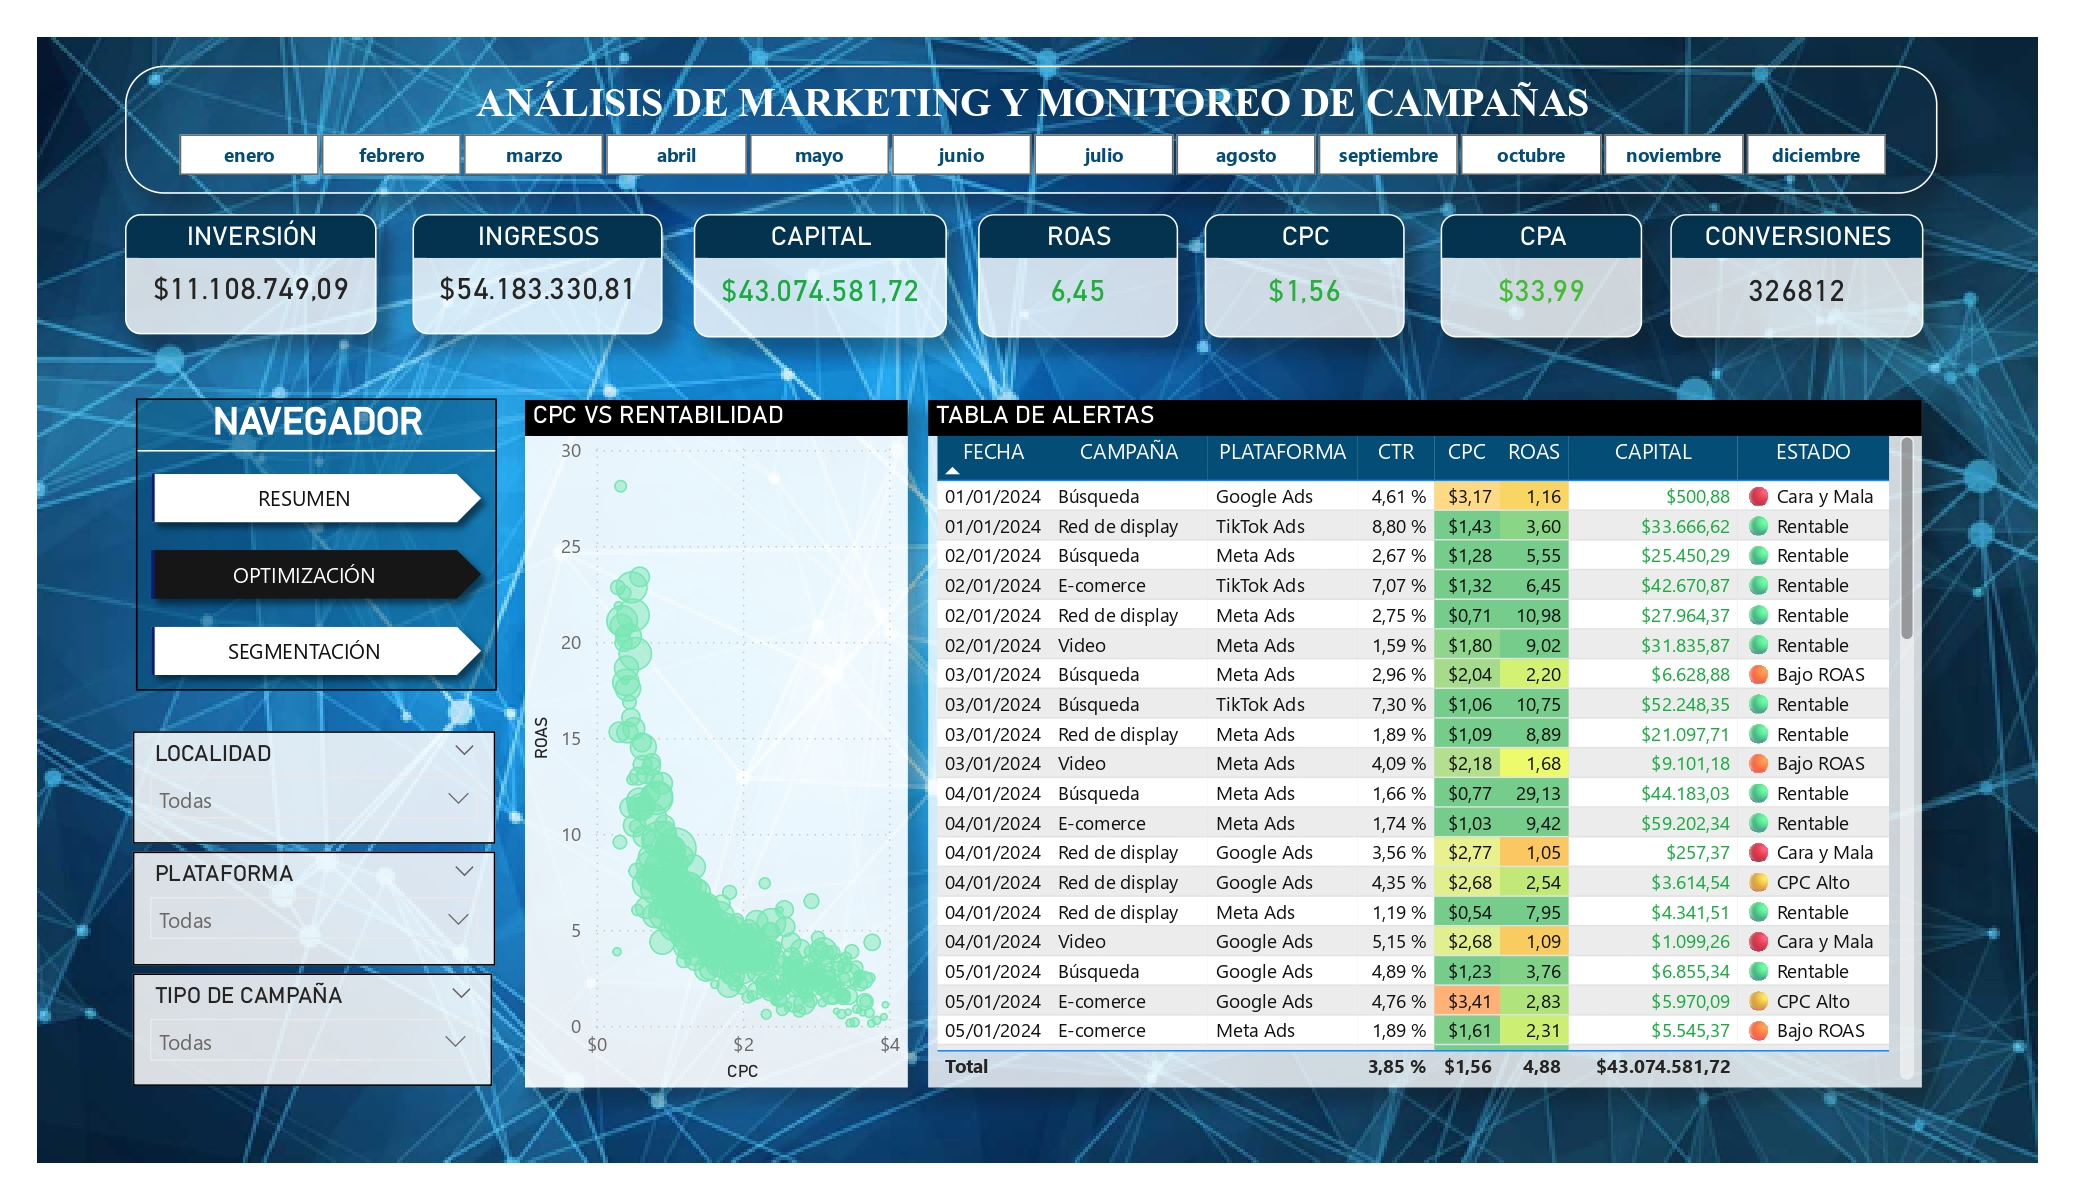

Layout of this report page (visuals, bound fields, positions):
{"tool":"powerbi","page":{"name":"OPTIMIZACIÓN","canvas":[1280,720],"ordinal":1},"visuals":[{"type":"scatterChart","title":"CPC VS RENTABILIDAD","fields":{"X":["Marketing.CPC_Registro"],"Y":["Avg(Marketing.ROAS_Registro)"],"Size":["Sum(Marketing.CONVERSIONES)"]},"box":[311.7,232.3,244.9,439.7],"z":1000},{"type":"pageNavigator","title":"NAVEGADOR","box":[62.5,231.2,231.2,186.2],"z":2000},{"type":"slicer","fields":{"Values":["dim_plataforma.PLATAFORMA"]},"box":[61.2,521.2,231.2,72.5],"z":3000},{"type":"slicer","fields":{"Values":["dim_localidad.LOCALIDAD"]},"box":[61.2,443.8,231.2,72.5],"z":4000},{"type":"slicer","fields":{"Values":["dim_campaña.T_CAMPAÑA"]},"box":[61.2,598.8,230,72.5],"z":5000},{"type":"card","title":"INVERSIÓN","fields":{"Values":["Sum(Marketing.INVERSION)"]},"box":[56,113,161,77],"z":6000},{"type":"card","title":"INGRESOS","fields":{"Values":["Medidas.Ingresos"]},"box":[240,113.3,160,76.7],"z":7000},{"type":"card","title":"CONVERSIONES","fields":{"Values":["Sum(Marketing.CONVERSIONES)"]},"box":[1045,113.3,161.7,78.3],"z":8000},{"type":"card","title":"ROAS","fields":{"Values":["Avg(Marketing.ROAS_Registro)"]},"box":[601.7,113.3,128.3,78.3],"z":9000},{"type":"card","title":"CPA","fields":{"Values":["Medidas.KPI_CPA"]},"box":[898.3,113.3,128.3,78.3],"z":10000},{"type":"card","title":"PROFIT","fields":{"Values":["Medidas.Profit"]},"box":[420,113.3,161.7,78.3],"z":11000},{"type":"card","title":"CPC","fields":{"Values":["Medidas.KPI_CPC"]},"box":[746.7,113.3,128.3,78.3],"z":12000},{"type":"tableEx","title":"TABLA DE ALERTAS","fields":{"Values":["Marketing.FECHA","dim_campaña.T_CAMPAÑA","dim_plataforma.PLATAFORMA","Medidas.KPI_CTR","Medidas.KPI_CPC","Medidas.KPI_ROAS","Medidas.Profit","Marketing.Estado_Campaña"]},"box":[570.4,232.3,635.8,439.7],"z":13000},{"type":"slicer","title":"ANÁLISIS DE MARKETING Y MONITOREO DE CAMPAÑAS","fields":{"Values":["dim_fecha.Date.Variación.Jerarquía de fechas.Mes"]},"box":[55.7,18.1,1160.3,82.1],"z":14000}]}

Visuals, with their boxes on the page's 1280x720 design canvas (x1, y1, x2, y2). These are canvas units, not pixel positions in the 2075x1200 screenshot, which may show the page scaled, cropped or inside an application window:
"CPC VS RENTABILIDAD" scatterChart: <box>312,232,557,672</box>
"NAVEGADOR" pageNavigator: <box>62,231,294,417</box>
slicer - dim_plataforma.PLATAFORMA: <box>61,521,292,594</box>
slicer - dim_localidad.LOCALIDAD: <box>61,444,292,516</box>
slicer - dim_campaña.T_CAMPAÑA: <box>61,599,291,671</box>
"INVERSIÓN" card: <box>56,113,217,190</box>
"INGRESOS" card: <box>240,113,400,190</box>
"CONVERSIONES" card: <box>1045,113,1207,192</box>
"ROAS" card: <box>602,113,730,192</box>
"CPA" card: <box>898,113,1027,192</box>
"PROFIT" card: <box>420,113,582,192</box>
"CPC" card: <box>747,113,875,192</box>
"TABLA DE ALERTAS" tableEx: <box>570,232,1206,672</box>
"ANÁLISIS DE MARKETING Y MONITOREO DE CAMPAÑAS" slicer: <box>56,18,1216,100</box>
